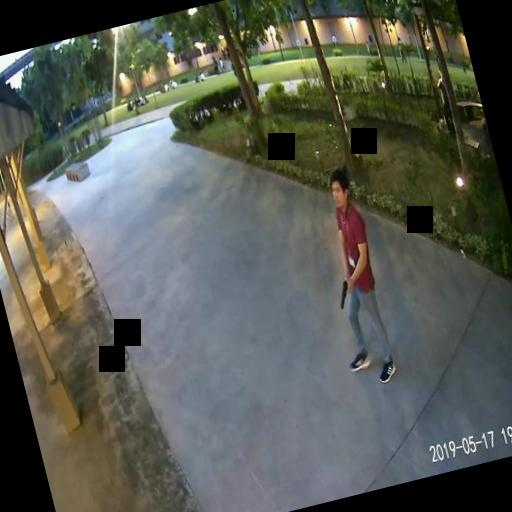Handgun: (332, 274, 354, 308)
